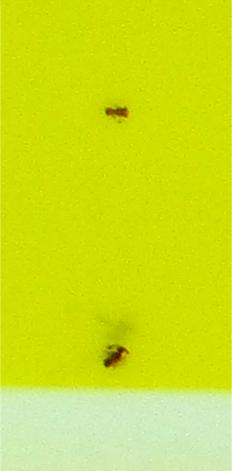Hemiptera: (101, 100, 130, 123)
Hymenoptera: (100, 342, 132, 371)
